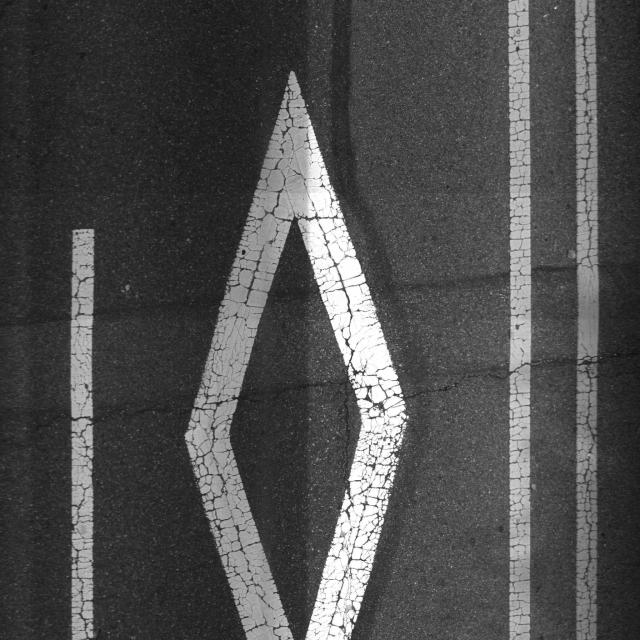diamond: (45, 54, 548, 640)
